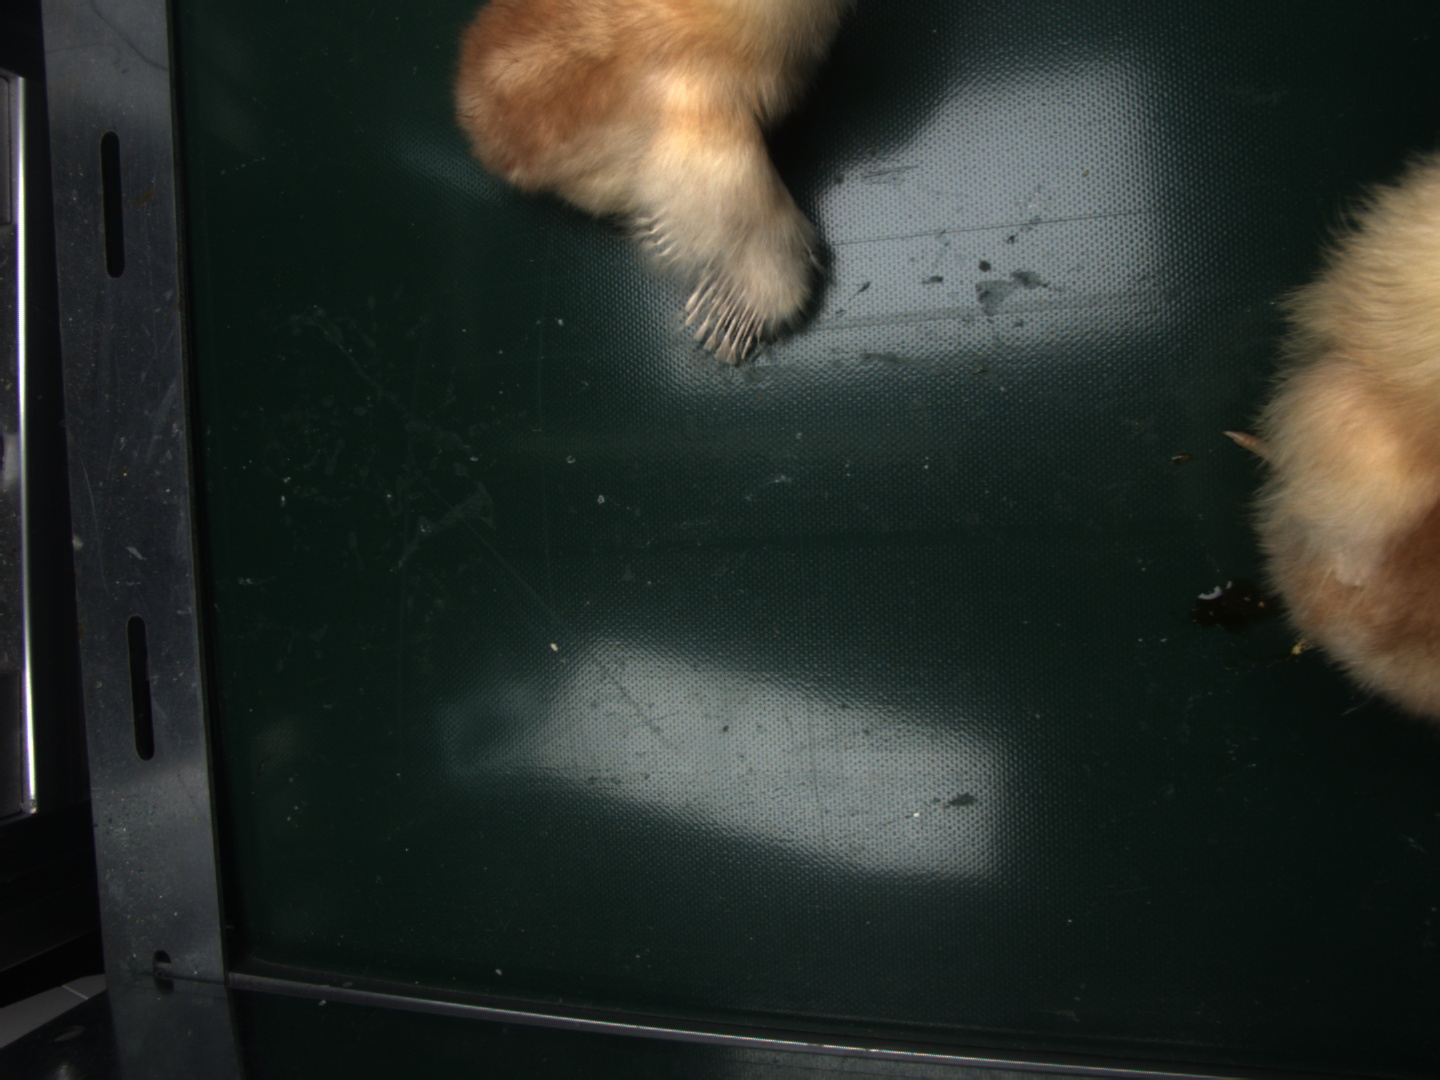female: (681, 277, 766, 366)
